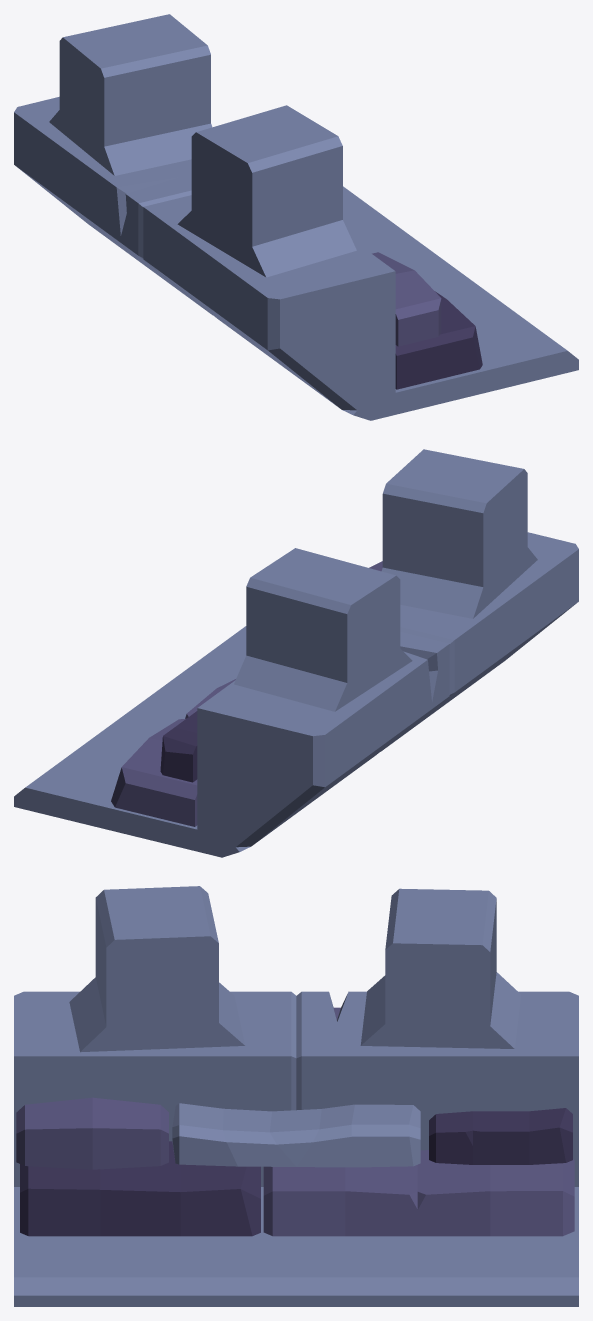
Rendered from Wall_Top_1.fbx.
The picture shows the model from 3 angles, top to bottom: view 1: azimuth 30°, elevation 25°; view 2: azimuth 150°, elevation 25°; view 3: azimuth 270°, elevation 25°; orthographic projection. The views are drawn at different scales.
Parts seen in each view (by area): view 1: Wall_Top_1; view 2: Wall_Top_1; view 3: Wall_Top_1.
Part boxes in pixels (box(x1,y1,x2,y2)): Wall_Top_1: box(14, 14, 578, 420); Wall_Top_1: box(14, 449, 578, 857); Wall_Top_1: box(14, 886, 578, 1306).
Bounding box in the file's own units: 546 × 420 × 810.
